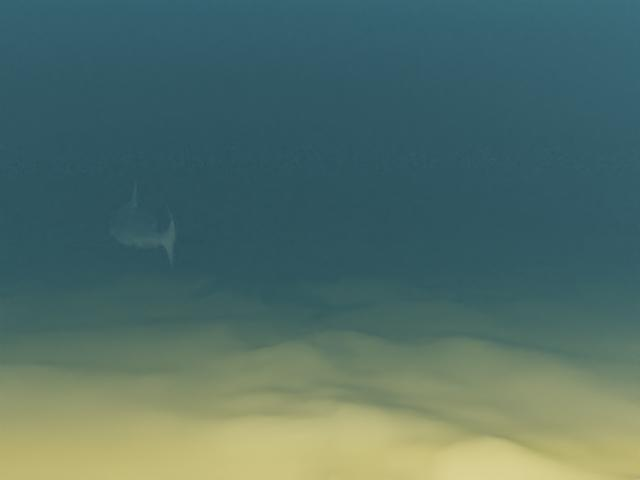Carribean Shark.001: (62, 176, 208, 273)
